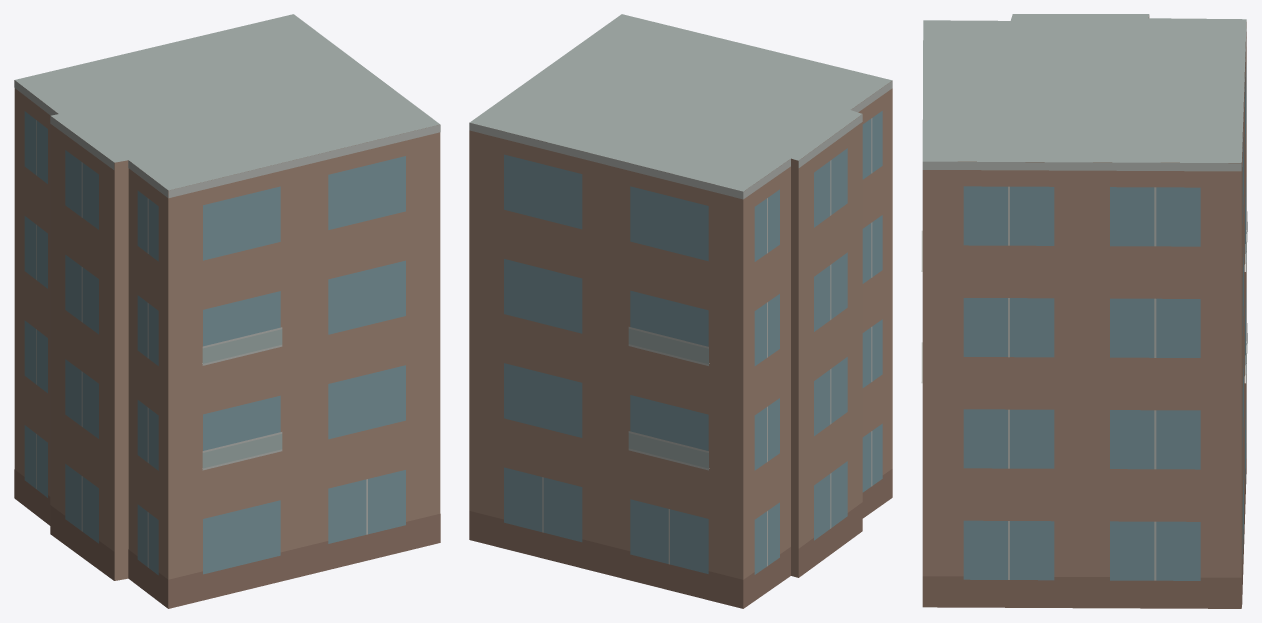
The model's file is survey-upis-32546050.glb.
The picture shows the model from 3 angles, left to right: view 1: azimuth 30°, elevation 25°; view 2: azimuth 150°, elevation 25°; view 3: azimuth 270°, elevation 25°; orthographic projection. The views are drawn at different scales.
Parts seen in each view (by area): view 1: survey-upis-32546050.tmp; view 2: survey-upis-32546050.tmp; view 3: survey-upis-32546050.tmp.
Part boxes in pixels (<box>): survey-upis-32546050.tmp: <box>14,14,440,608</box>; survey-upis-32546050.tmp: <box>469,14,892,608</box>; survey-upis-32546050.tmp: <box>921,14,1247,608</box>.
Bounding box in the file's own units: 9.35 × 13.02 × 8.63.
